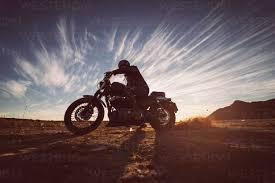motorcycle: (61, 73, 179, 135)
